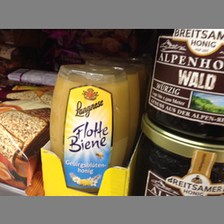honey: (47, 60, 131, 194)
